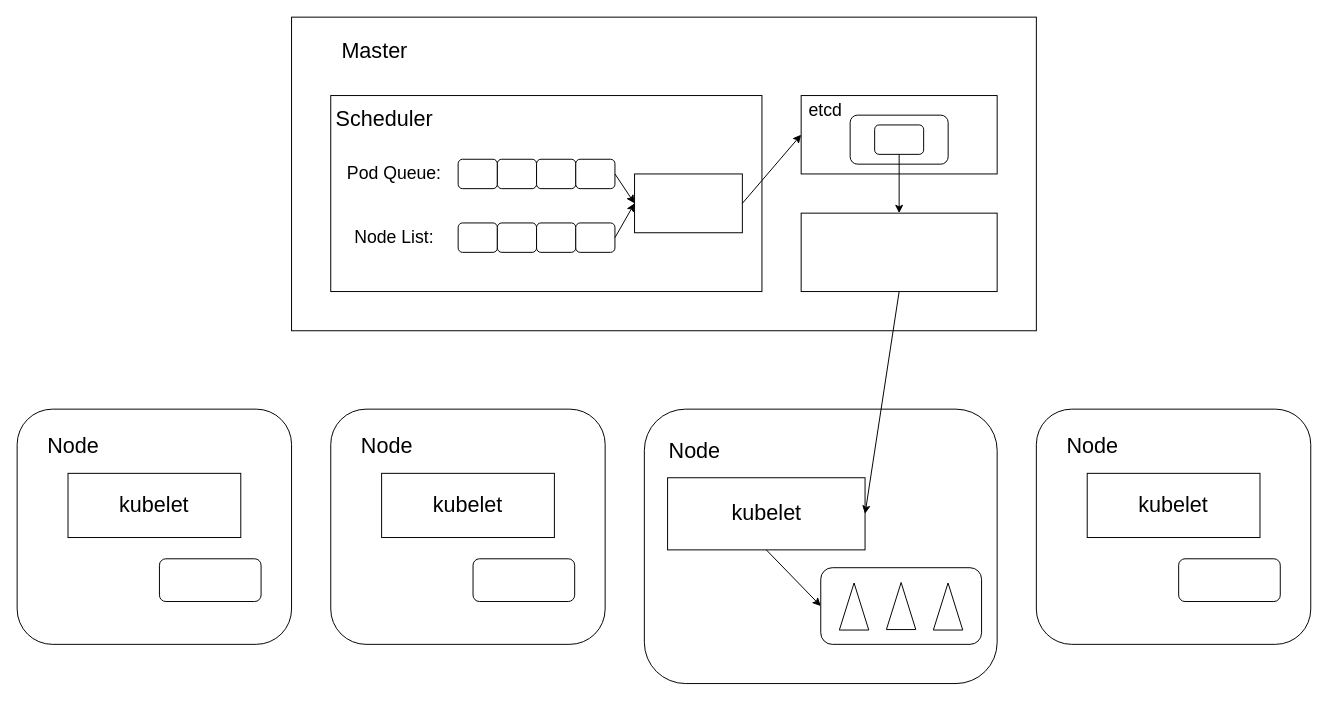
This 1328x701 diagram has some shape labels left out. Here are the shapes that lost their labels. From the top down, the centre of each, then its label:
the point at 688,203: 调度算法 调度策略
the point at 898,252: API Server
